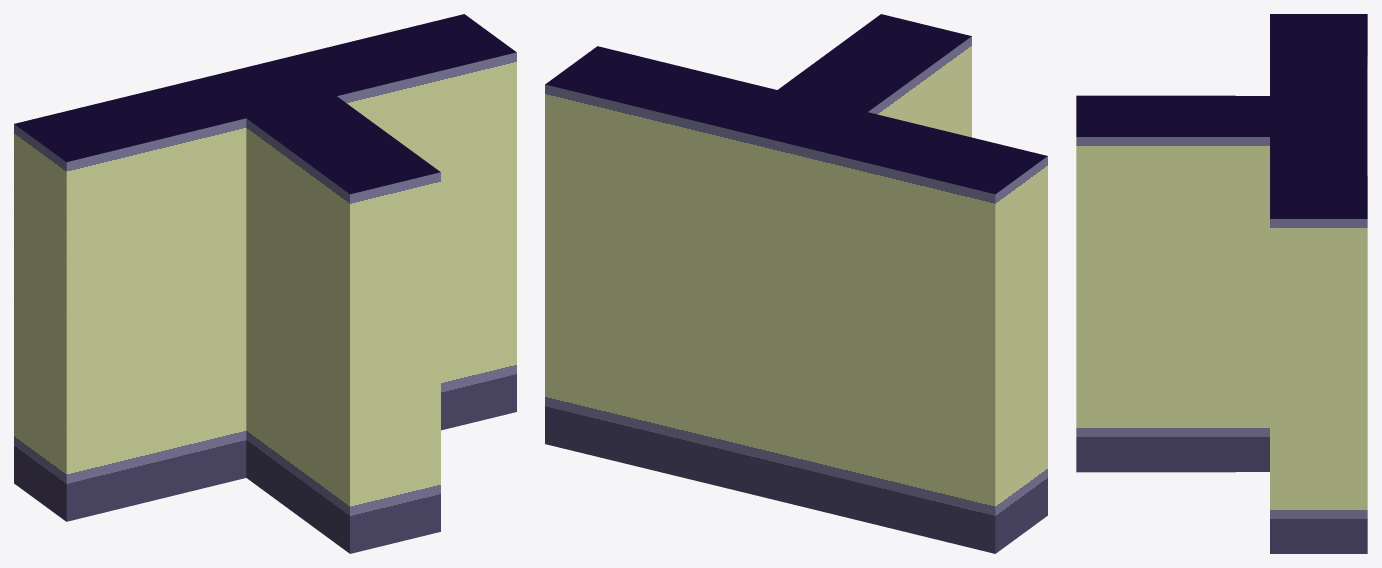
File: BrickWallCenterVariant.fbx
3 renders of one model, left to right at view 1: azimuth 30°, elevation 25°; view 2: azimuth 150°, elevation 25°; view 3: azimuth 270°, elevation 25°, orthographic. The views are drawn at different scales.
Visible parts, largest first — view 1: BrickWallCenter; view 2: BrickWallCenter; view 3: BrickWallCenter.
Boxes of the visible parts, <box> form: BrickWallCenter: <box>14,14,516,553</box>; BrickWallCenter: <box>545,14,1047,553</box>; BrickWallCenter: <box>1076,14,1367,553</box>.
Bounding box in the file's own units: 600 × 458 × 360.
